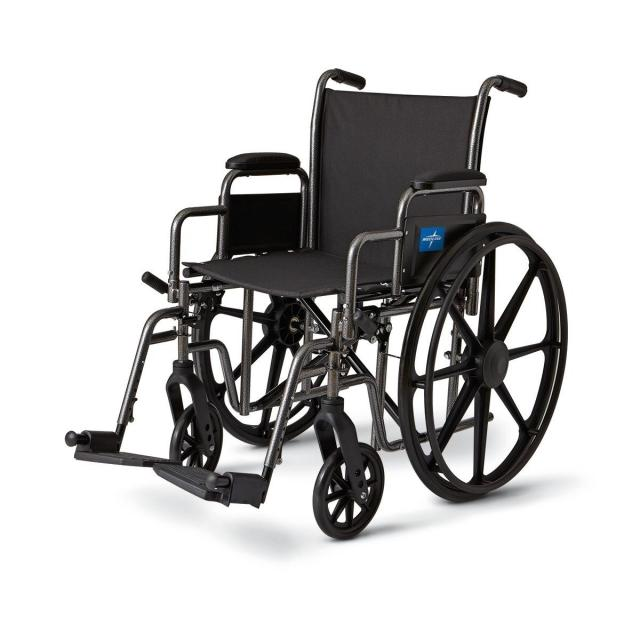wheelchair: (43, 55, 603, 557)
